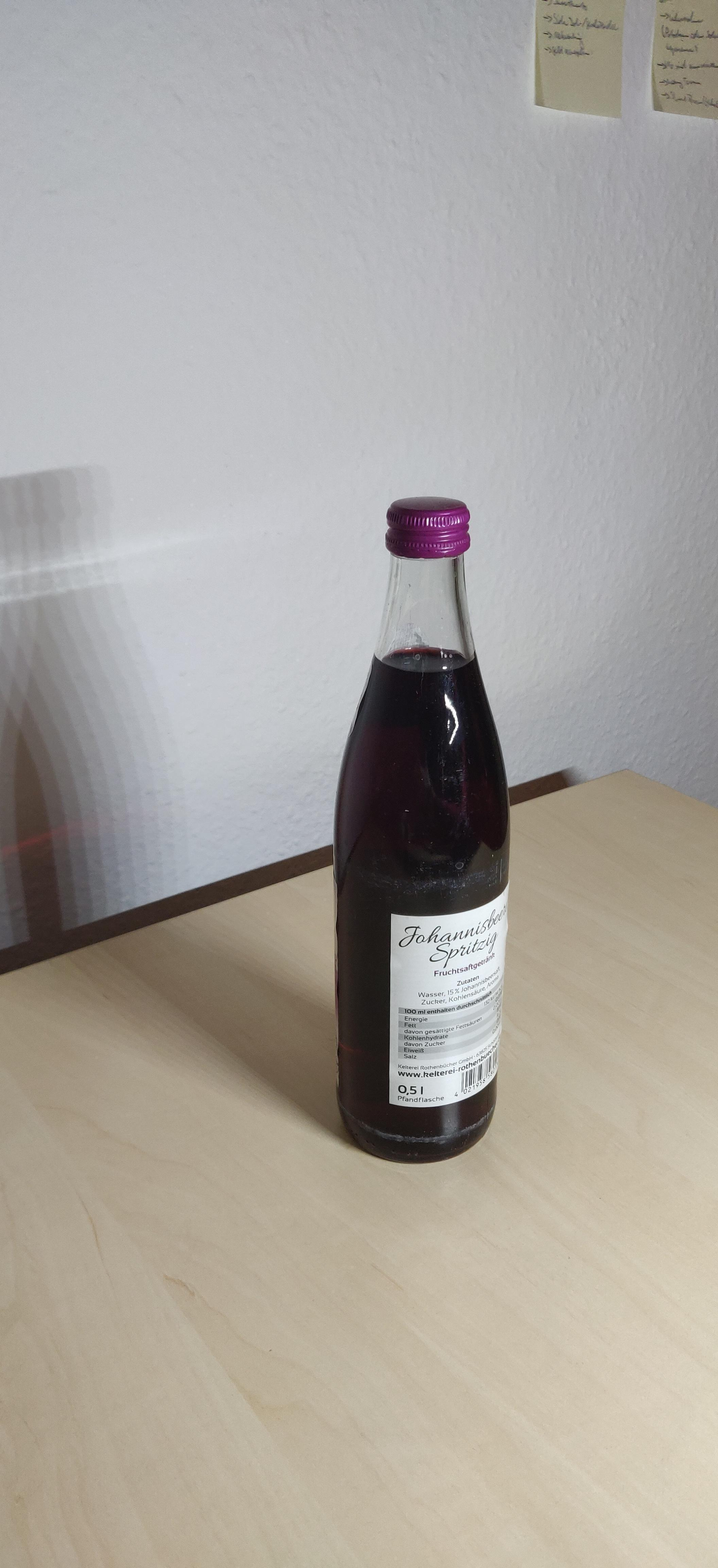bottle-glass: (323, 491, 518, 1168)
